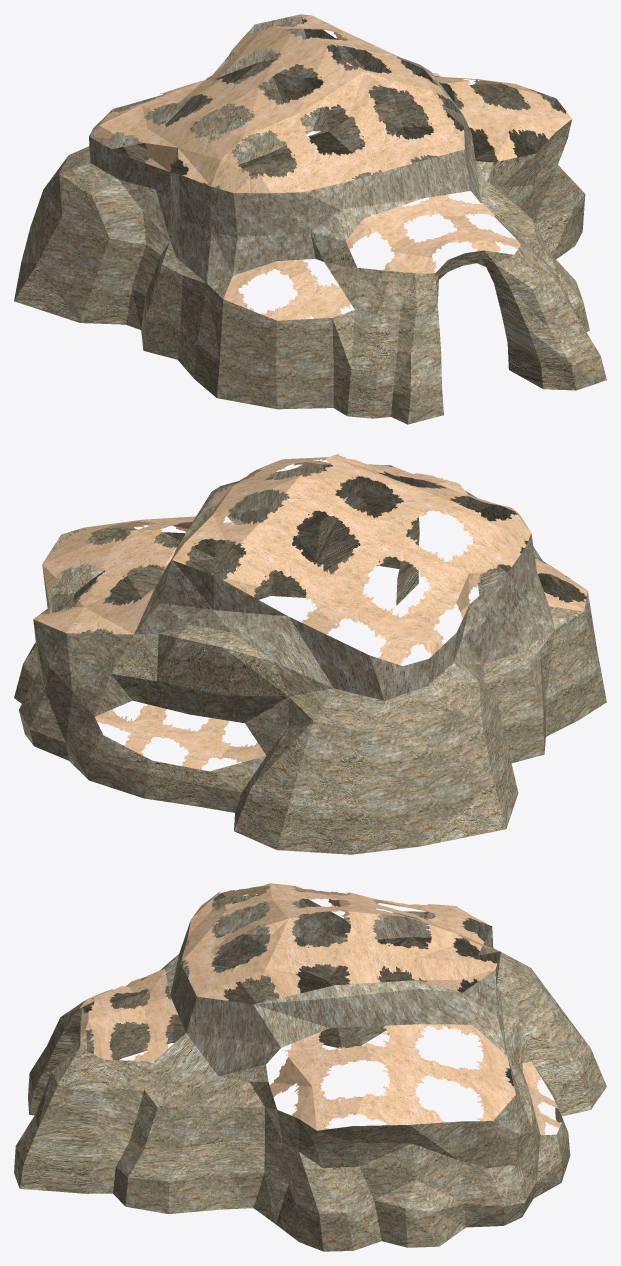
Rendered from poi_all_lair_cave_small_light_r0_mesh_l2.fbx.
3 renders of one model, top to bottom at view 1: azimuth 30°, elevation 25°; view 2: azimuth 150°, elevation 25°; view 3: azimuth 270°, elevation 25°, orthographic. The views are drawn at different scales.
Parts seen in each view (by area): view 1: mesh_node; view 2: mesh_node; view 3: mesh_node.
Part boxes in pixels (<box>): mesh_node: <box>14,14,606,424</box>; mesh_node: <box>14,453,606,854</box>; mesh_node: <box>14,883,606,1251</box>.
Bounding box in the file's own units: 24.59 × 11.17 × 26.37.
